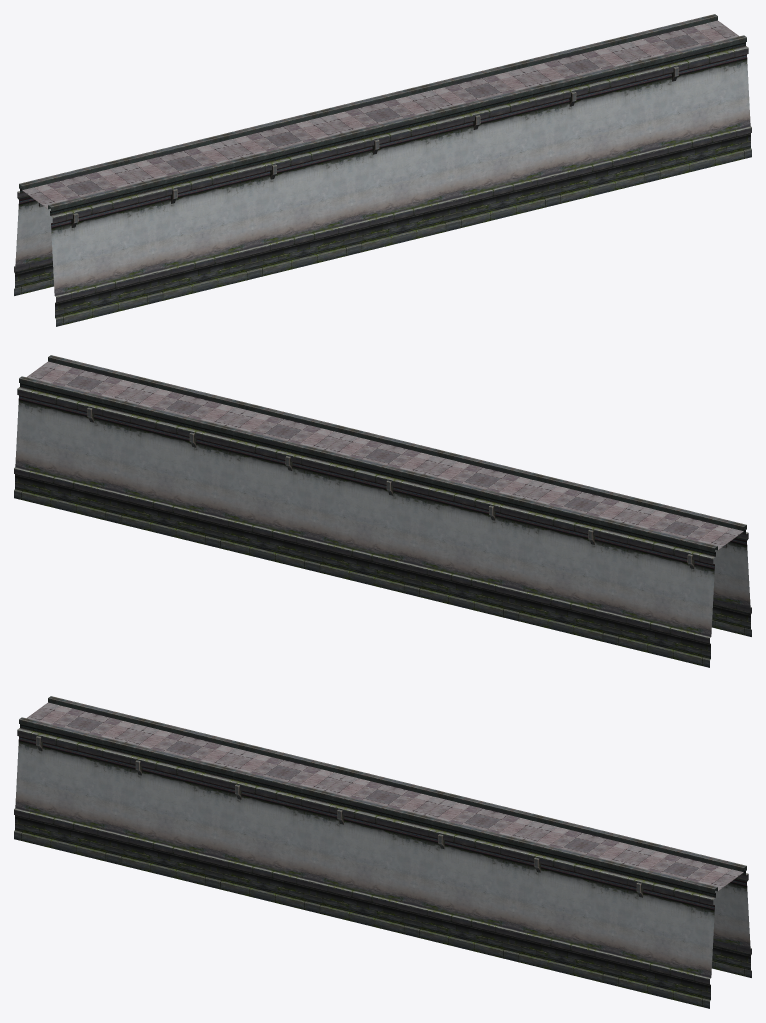
The model's file is Maincity06_Building_Wall.FBX.
The picture shows the model from 3 angles, top to bottom: view 1: azimuth 30°, elevation 25°; view 2: azimuth 150°, elevation 25°; view 3: azimuth 330°, elevation 25°; orthographic projection.
Parts seen in each view (by area): view 1: Maincity06_Building_Wall; view 2: Maincity06_Building_Wall; view 3: Maincity06_Building_Wall.
Part boxes in pixels (x1,y1,x2,y2): Maincity06_Building_Wall: (14,14,751,326); Maincity06_Building_Wall: (14,355,751,667); Maincity06_Building_Wall: (14,696,751,1008).
Size of the model in its own units: 8900 by 1419 by 930.
